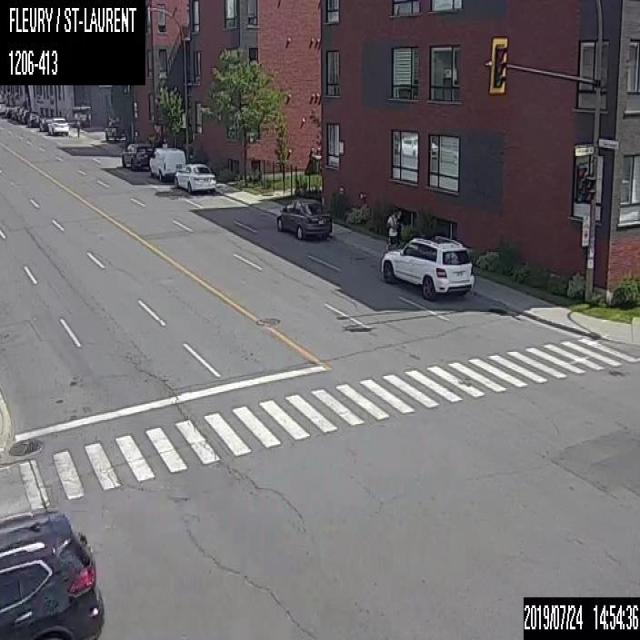pedestrian: (384, 210, 401, 250)
vehicle: (0, 505, 105, 638), (379, 232, 472, 300), (274, 194, 331, 238), (173, 162, 216, 195), (148, 147, 185, 181), (121, 140, 154, 170), (104, 116, 126, 142), (47, 116, 68, 135), (26, 112, 39, 125), (20, 108, 32, 122), (37, 116, 48, 130)
